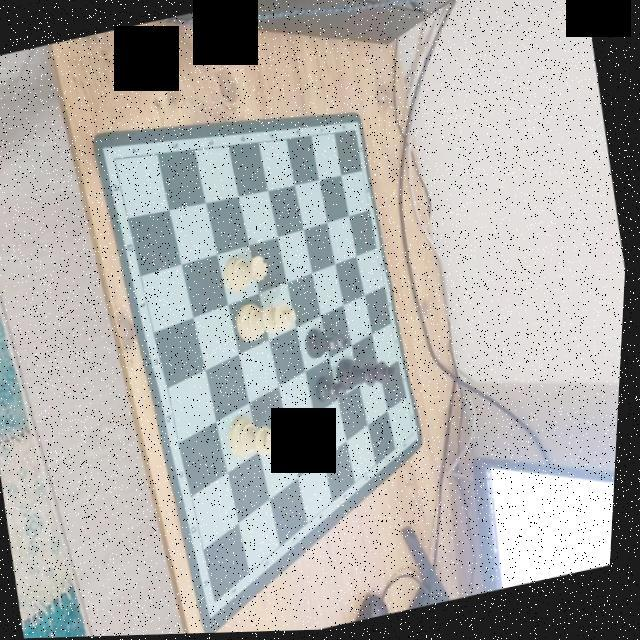chess-table-corners: (410, 426, 426, 445), (108, 150, 124, 168), (214, 595, 228, 611), (349, 126, 362, 140)
